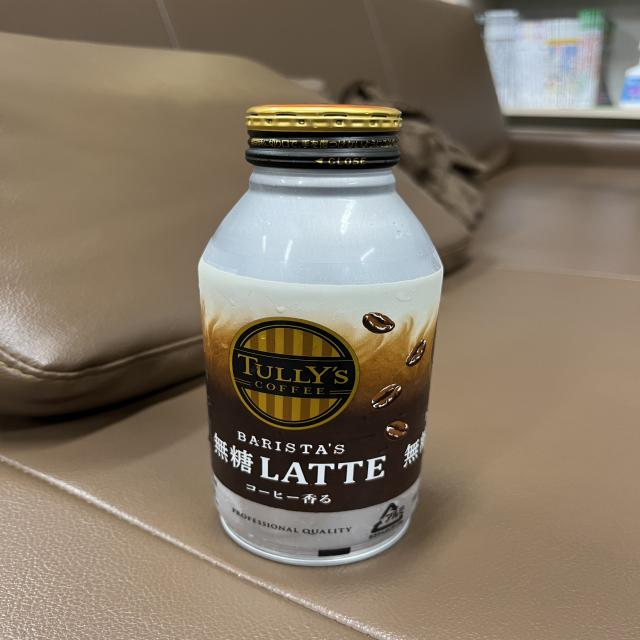coffee-latte: (197, 102, 445, 565)
